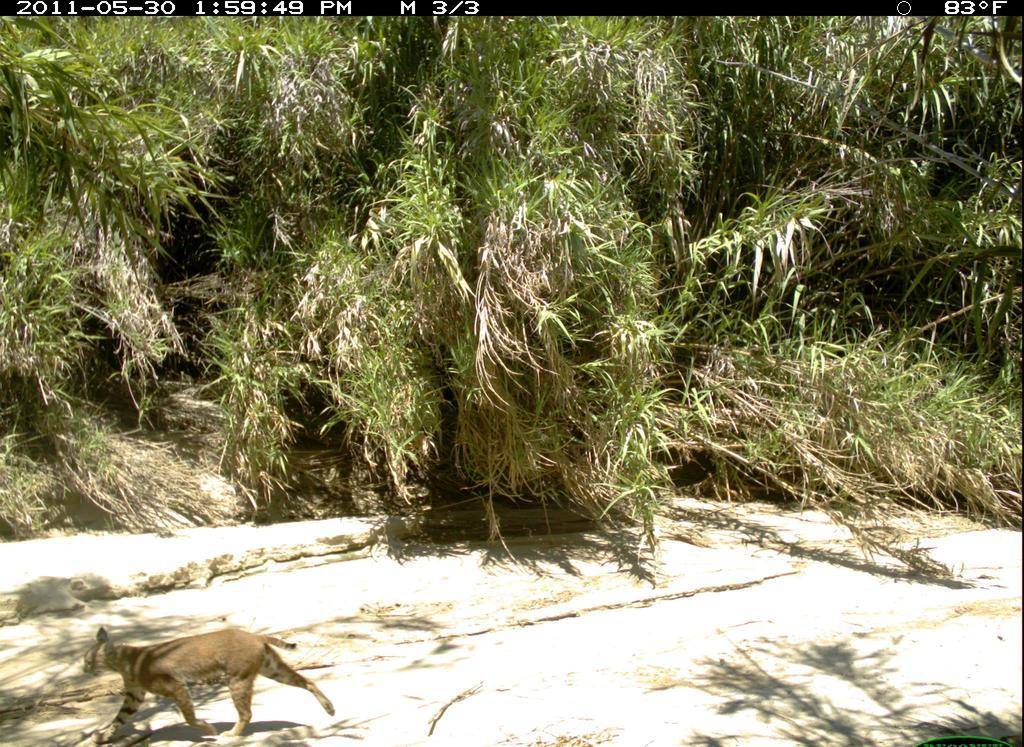bobcat: (65, 615, 345, 740)
